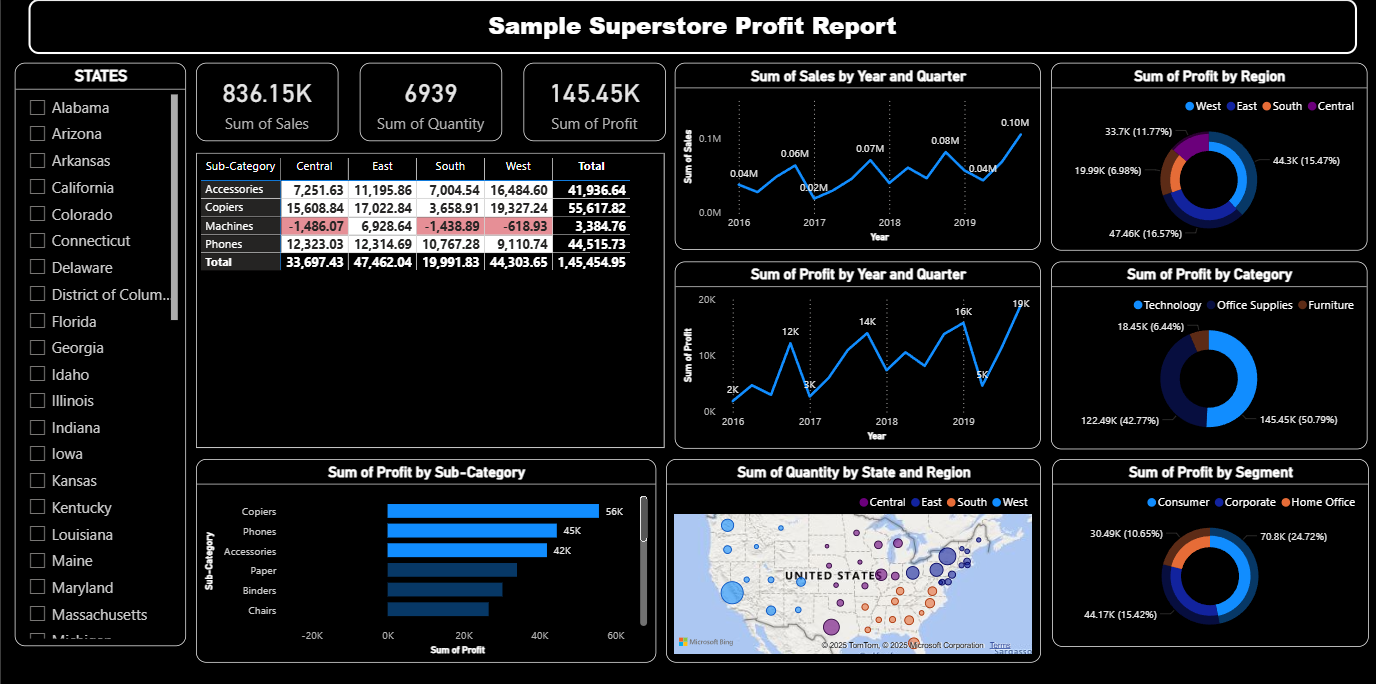

This screenshot's page, from the dashboard's own definition file:
{"tool":"powerbi","page":{"name":"Page 1","canvas":[1600,800],"ordinal":0},"visuals":[{"type":"textbox","box":[32,0,1545.1,64],"z":0},{"type":"donutChart","fields":{"Category":["Orders.Region"],"Y":["Sum(Orders.Profit)"]},"box":[1220.9,74.1,367.7,218],"z":1},{"type":"donutChart","fields":{"Y":["Sum(Orders.Profit)"],"Category":["Orders.Category"]},"box":[1220.9,305.2,367.7,218],"z":2},{"type":"donutChart","fields":{"Y":["Sum(Orders.Profit)"],"Category":["Orders.Segment"]},"box":[1222.4,534.9,367.7,218],"z":3},{"type":"lineChart","fields":{"Category":["Orders.Order Date.Variation.Date Hierarchy.Year","Orders.Order Date.Variation.Date Hierarchy.Quarter"],"Y":["Sum(Orders.Sales)"]},"box":[783.9,74.2,425.8,217.7],"z":4},{"type":"barChart","fields":{"Category":["Orders.Sub-Category"],"Y":["Sum(Orders.Profit)"]},"box":[226.7,534.9,534.9,236.9],"z":5},{"type":"card","fields":{"Values":["Sum(Orders.Sales)"]},"box":[226.7,74.1,165.7,91.6],"z":6},{"type":"card","fields":{"Values":["Sum(Orders.Profit)"]},"box":[607.6,74.1,165.7,91.6],"z":7},{"type":"card","fields":{"Values":["Sum(Orders.Quantity)"]},"box":[417.2,74.1,165.7,91.6],"z":8},{"type":"pivotTable","fields":{"Rows":["Orders.Sub-Category"],"Columns":["Orders.Region"],"Values":["Sum(Orders.Profit)"]},"box":[227.4,179,545.2,343.5],"z":9},{"type":"slicer","title":"STATES","fields":{"Values":["Orders.State"]},"box":[16,74.1,199.1,678.8],"z":10},{"type":"lineChart","fields":{"Category":["Orders.Order Date.Variation.Date Hierarchy.Year","Orders.Order Date.Variation.Date Hierarchy.Quarter"],"Y":["Sum(Orders.Profit)"]},"box":[783.9,304.8,425.8,217.7],"z":11},{"type":"map","fields":{"Series":["Orders.Region"],"Category":["Orders.State"],"Size":["Sum(Orders.Quantity)"]},"box":[773.3,534.9,436,236.9],"z":12}]}

Visuals, with their boxes in screenshot pixels (x1, y1, x2, y2), scaled from the page's 1600x800 canvas onto the 1376x684 screenshot:
textbox: [x1=28, y1=0, x2=1356, y2=55]
donutChart - Orders.Region x Sum(Orders.Profit): [x1=1050, y1=63, x2=1366, y2=250]
donutChart - Sum(Orders.Profit) x Orders.Category: [x1=1050, y1=261, x2=1366, y2=447]
donutChart - Sum(Orders.Profit) x Orders.Segment: [x1=1051, y1=457, x2=1367, y2=644]
lineChart - Orders.Order Date.Variation.Date Hierarchy.Year x Orders.Order Date.Variation.Date Hierarchy.Quarter: [x1=674, y1=63, x2=1040, y2=250]
barChart - Orders.Sub-Category x Sum(Orders.Profit): [x1=195, y1=457, x2=655, y2=660]
card - Sum(Orders.Sales): [x1=195, y1=63, x2=337, y2=142]
card - Sum(Orders.Profit): [x1=523, y1=63, x2=665, y2=142]
card - Sum(Orders.Quantity): [x1=359, y1=63, x2=501, y2=142]
pivotTable - Orders.Sub-Category x Orders.Region: [x1=196, y1=153, x2=664, y2=447]
"STATES" slicer: [x1=14, y1=63, x2=185, y2=644]
lineChart - Orders.Order Date.Variation.Date Hierarchy.Year x Orders.Order Date.Variation.Date Hierarchy.Quarter: [x1=674, y1=261, x2=1040, y2=447]
map - Orders.Region x Orders.State: [x1=665, y1=457, x2=1040, y2=660]
